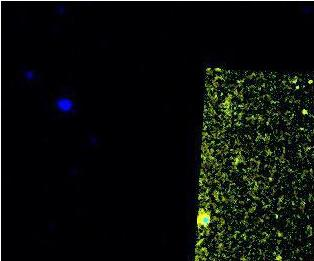star: (288, 96, 314, 126)
